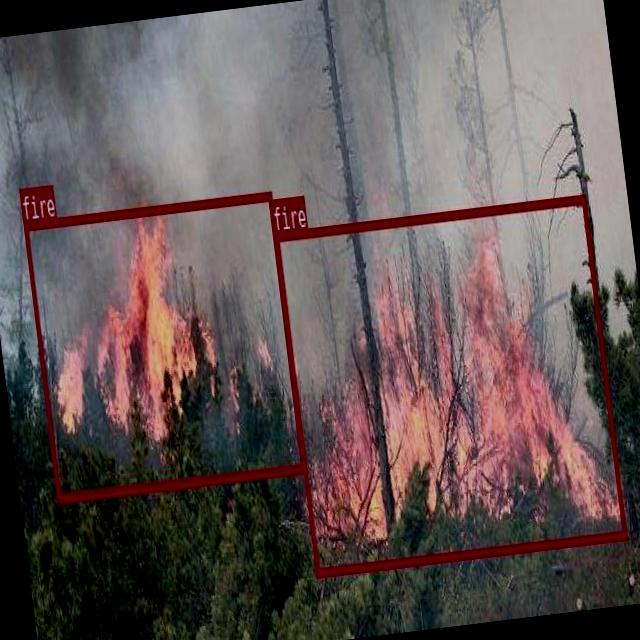fire: (273, 192, 626, 575), (22, 190, 305, 500)
